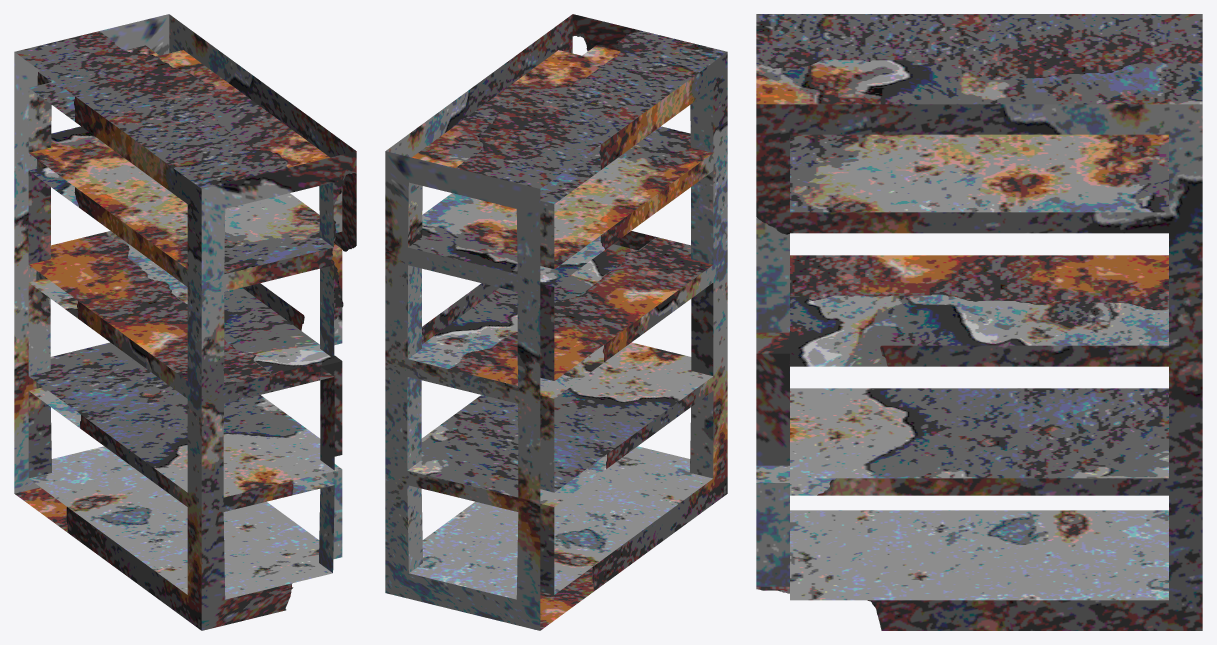
The model's file is Estante.fbx.
3 views of the same model, side by side, from view 1: azimuth 30°, elevation 25°; view 2: azimuth 150°, elevation 25°; view 3: azimuth 270°, elevation 25° (orthographic). The views are drawn at different scales.
Visible parts, largest first — view 1: Cube; view 2: Cube; view 3: Cube.
Boxes of the visible parts, <box> form: Cube: <box>14,14,356,630</box>; Cube: <box>385,14,727,630</box>; Cube: <box>756,14,1202,630</box>.
Bounding box in the file's own units: 73.33 × 200 × 154.
Materials: 1 (1 with a texture image).
